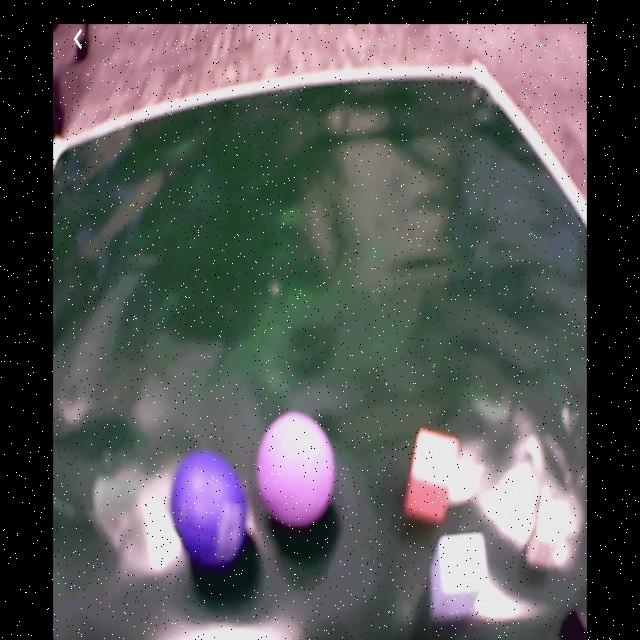ball: (255, 412, 335, 524), (173, 452, 247, 567)
